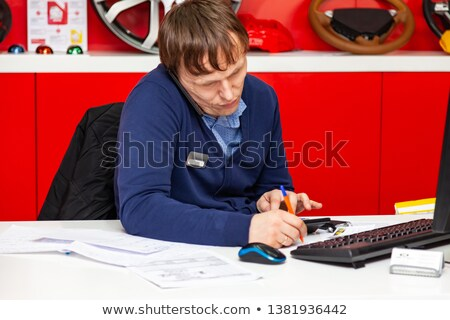phone: (162, 70, 204, 120)
